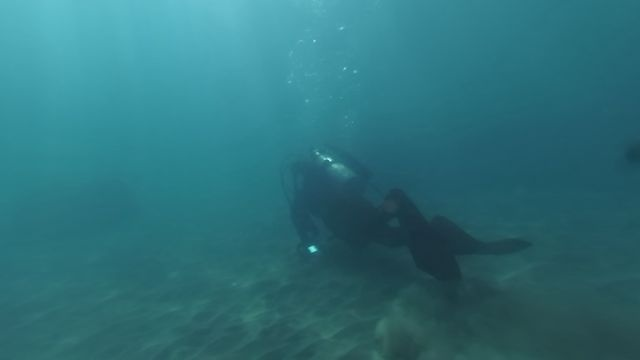Diver: (274, 142, 538, 293)
